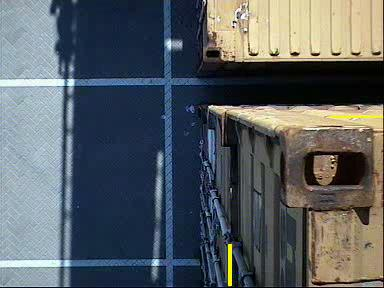groundmarker_2: (142, 97, 200, 133), (146, 245, 204, 280)
